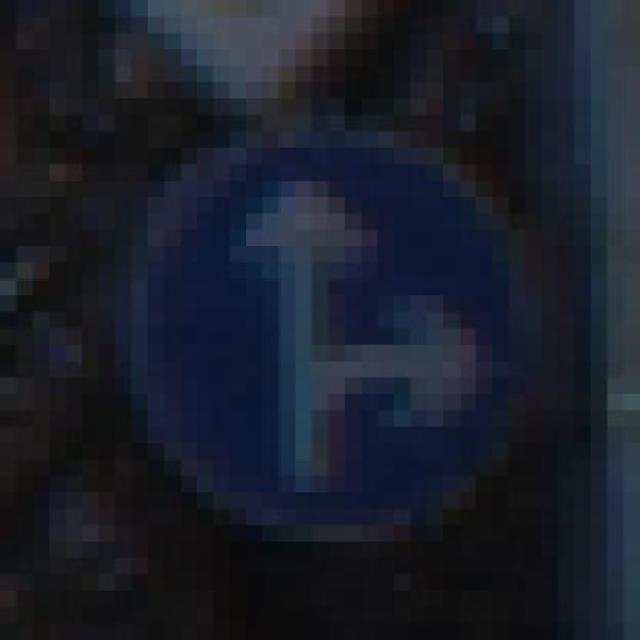Go Straight or Turn Right: (116, 95, 559, 572)
